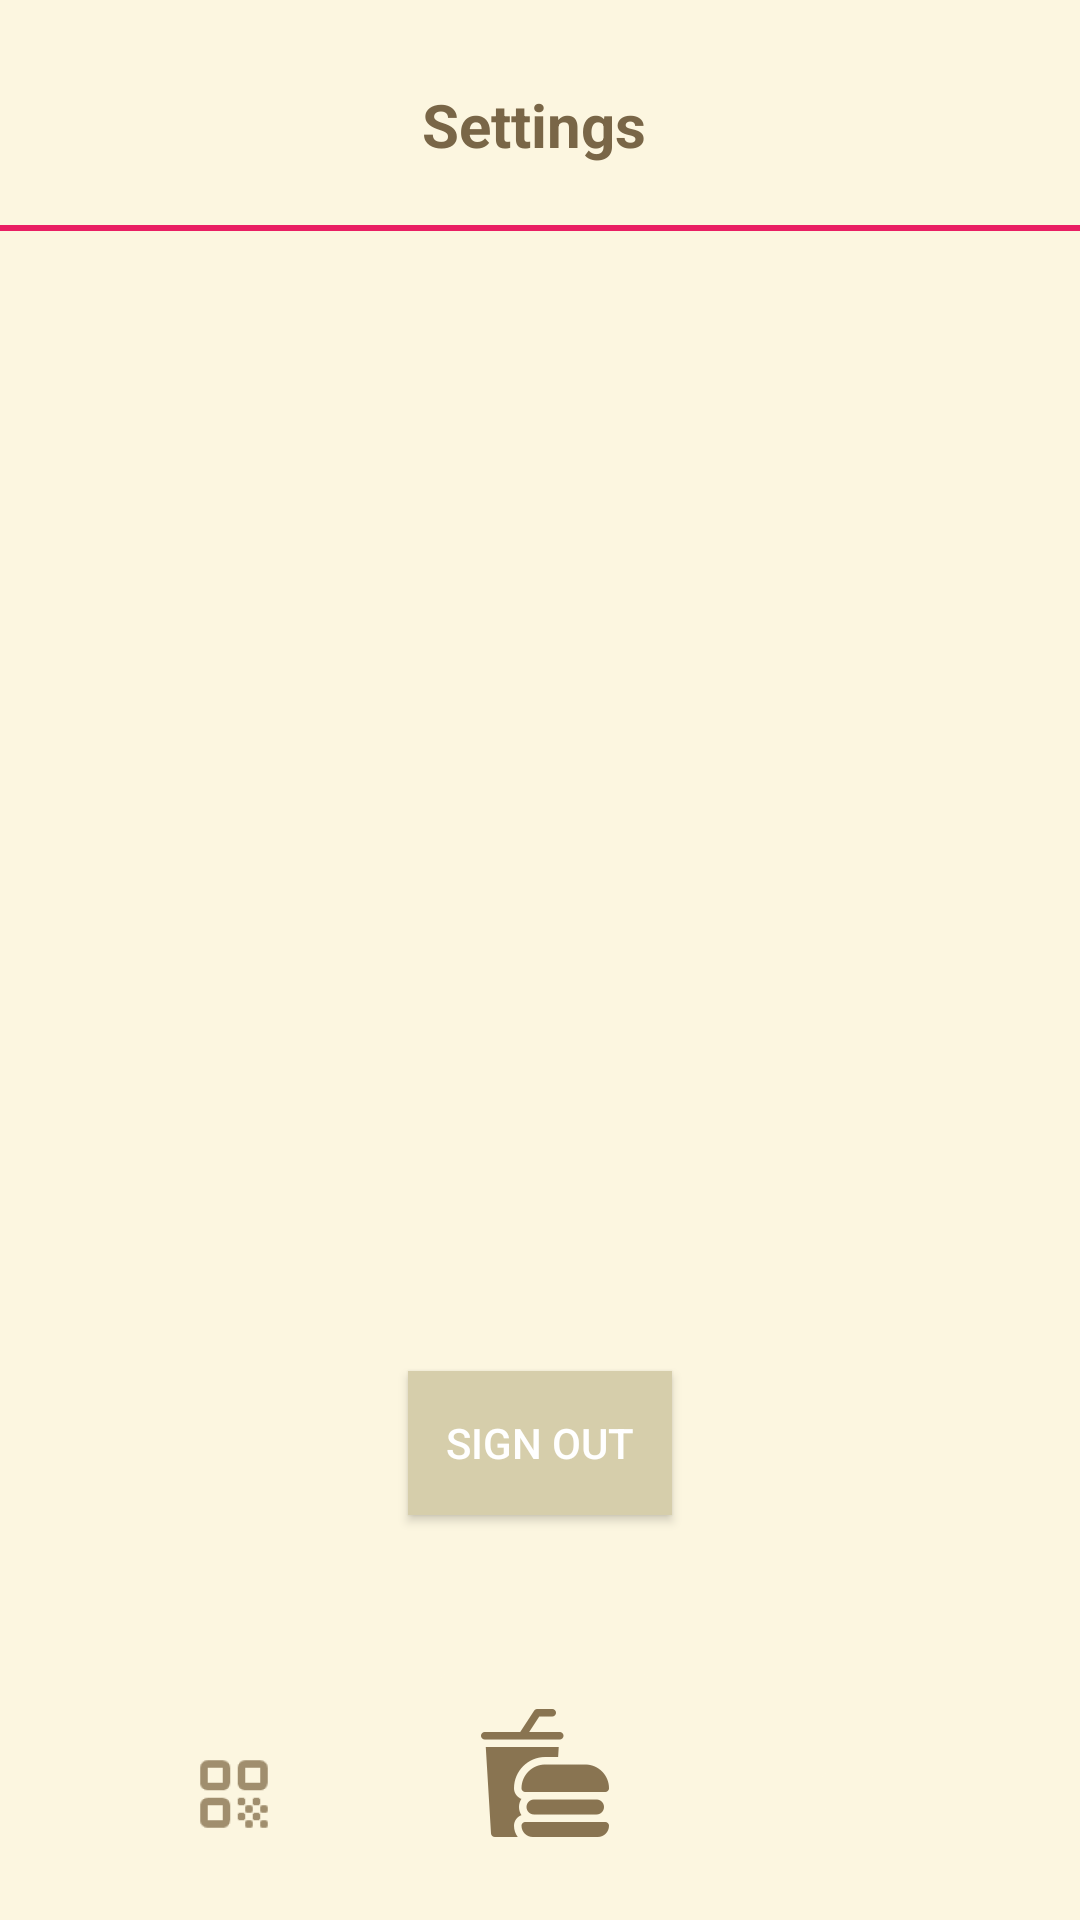

Icons on this 1080*1920 Android screen, each with its box as rect(x1, y1, x2, y2):
fastfood: rect(481, 1709, 609, 1837)
